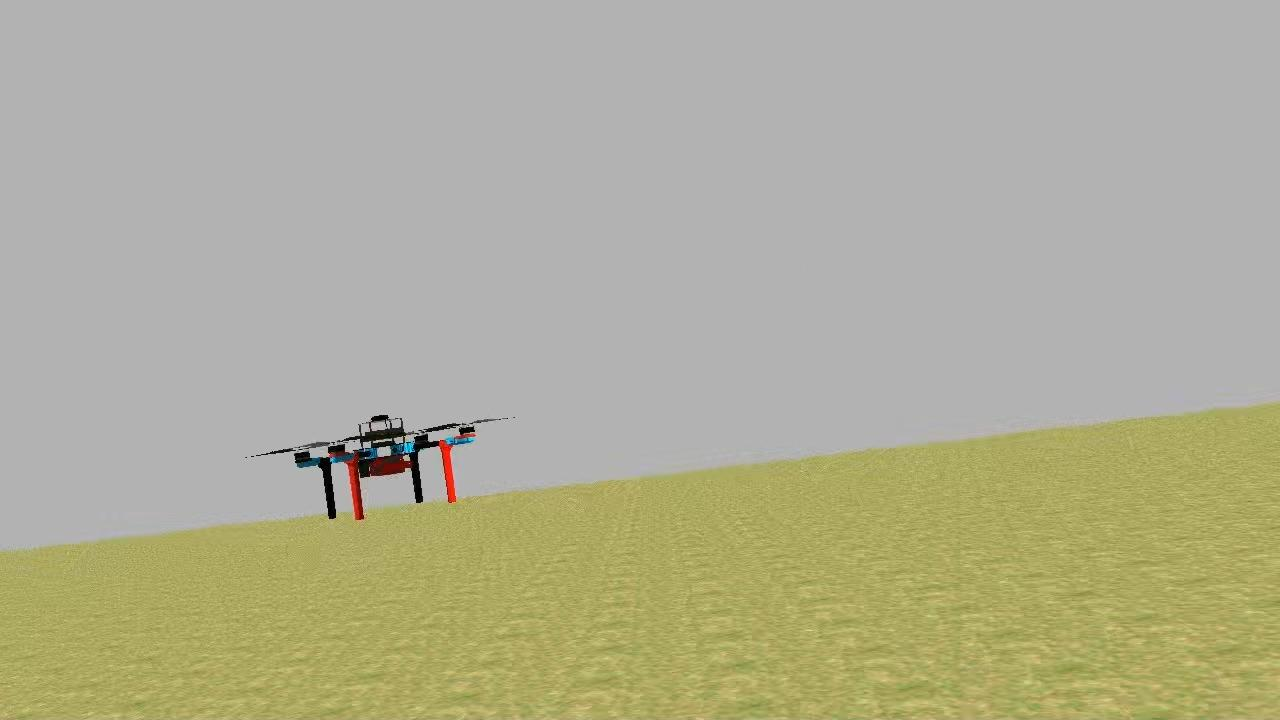UAV: (284, 408, 484, 530)
